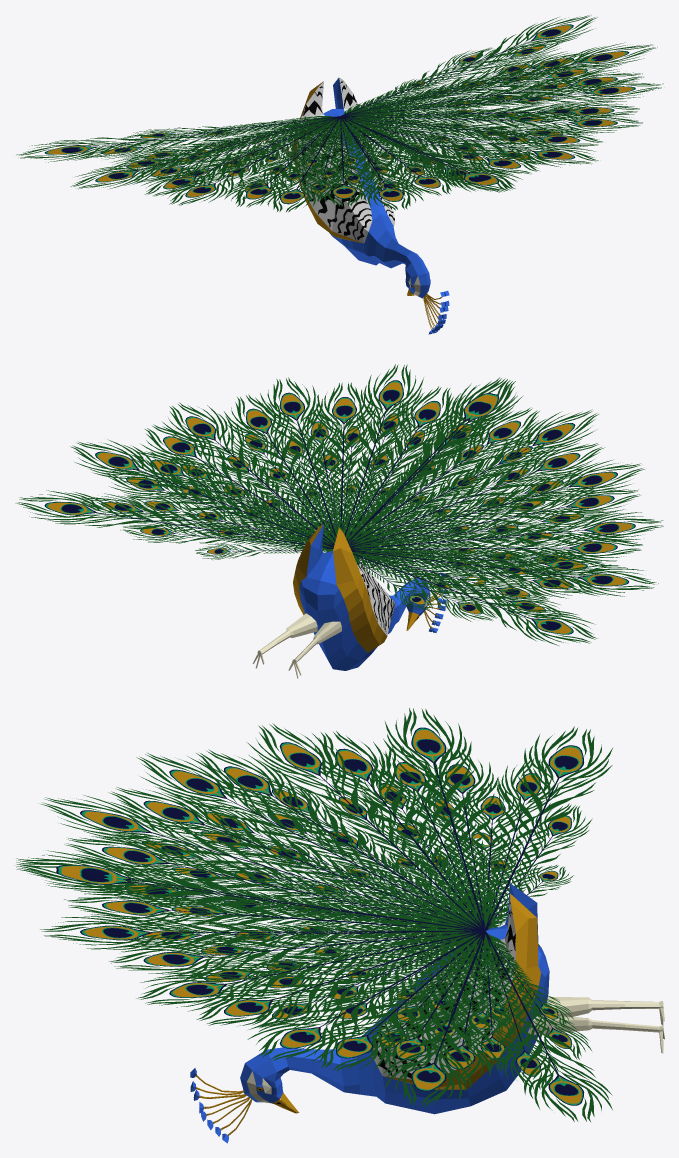
File: peacock.glb
The picture shows the model from 3 angles, top to bottom: view 1: azimuth 30°, elevation 25°; view 2: azimuth 150°, elevation 25°; view 3: azimuth 270°, elevation 25°; orthographic projection. The views are drawn at different scales.
Parts seen in each view (by area): view 1: Object_56; view 2: Object_56; view 3: Object_56.
Boxes of the visible parts, bbox=[...] form: Object_56: bbox=[16, 15, 663, 334]; Object_56: bbox=[15, 364, 663, 678]; Object_56: bbox=[16, 708, 664, 1143].
Bounding box in the file's own units: 8.04 × 2.6 × 5.53.
